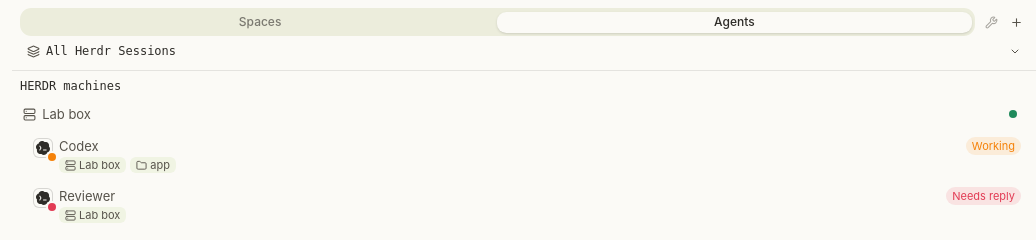
Test case: lists enabled machines and their agents in the Agents view only
The image size is (1036, 240).
Check: the text "HERDR machines" is shown, box [20, 79, 121, 93]
Check: the list item "Lab box" is shown, box [14, 99, 1028, 129]
Press the mouse on the tab "Spaces" at (260, 22), box [23, 12, 497, 32]
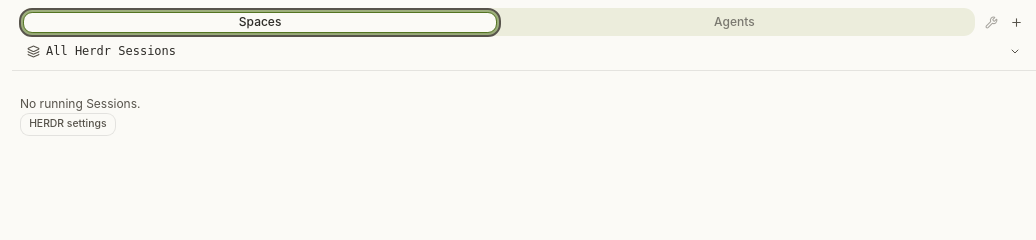
Check: the text "HERDR machines" is gone
